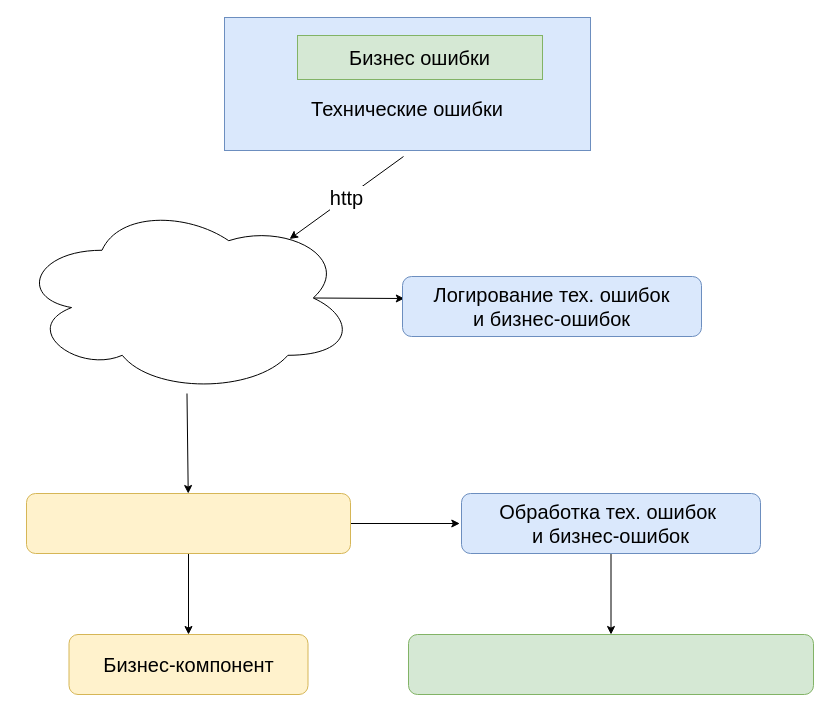
The diagram is 831 pixels wide and 712 high, and some of its shapes have lost their labels. The shapes that lost their labels are listed below. From the top down, each one's centre as x and y in pixels, then its label:
At point (186, 298): "Среда передачи".
At point (188, 523): "Клиент".
At point (611, 664): "Обработка бизнес-ошибок".
